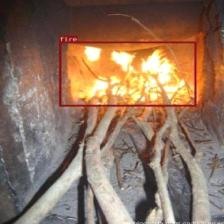fire: (58, 41, 196, 106)
